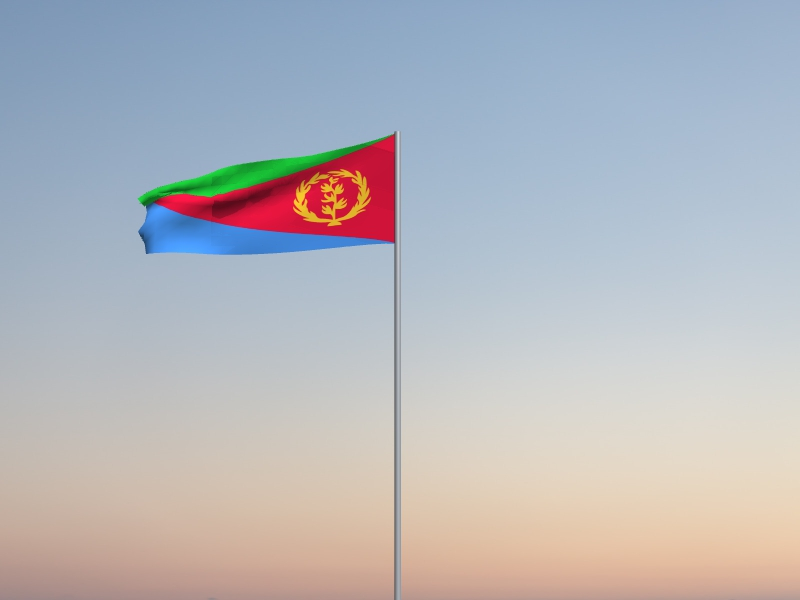er: (137, 135, 394, 257)
